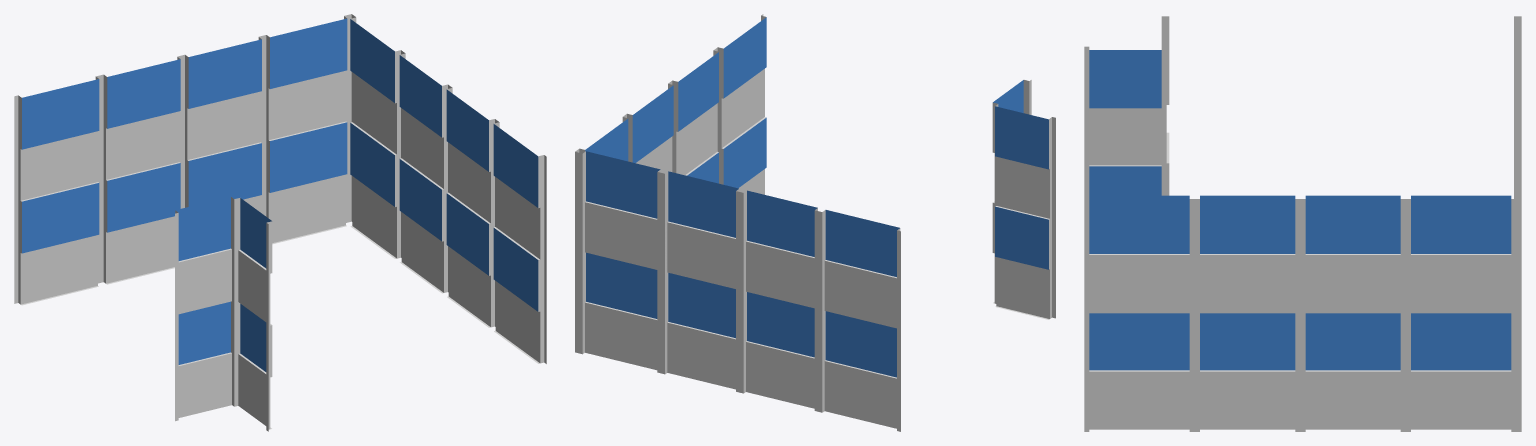
File: 03b_mid.fbx
The picture shows the model from 3 angles, left to right: view 1: azimuth 30°, elevation 25°; view 2: azimuth 150°, elevation 25°; view 3: azimuth 270°, elevation 25°; orthographic projection. The views are drawn at different scales.
Parts seen in each view (by area): view 1: 03b_Mid; view 2: 03b_Mid; view 3: 03b_Mid.
Boxes of the visible parts, bbox=[...] form: 03b_Mid: bbox=[14, 14, 546, 431]; 03b_Mid: bbox=[575, 14, 1055, 431]; 03b_Mid: bbox=[1084, 16, 1521, 431].
Size of the model in its own units: 42.5 by 25 by 42.5.
